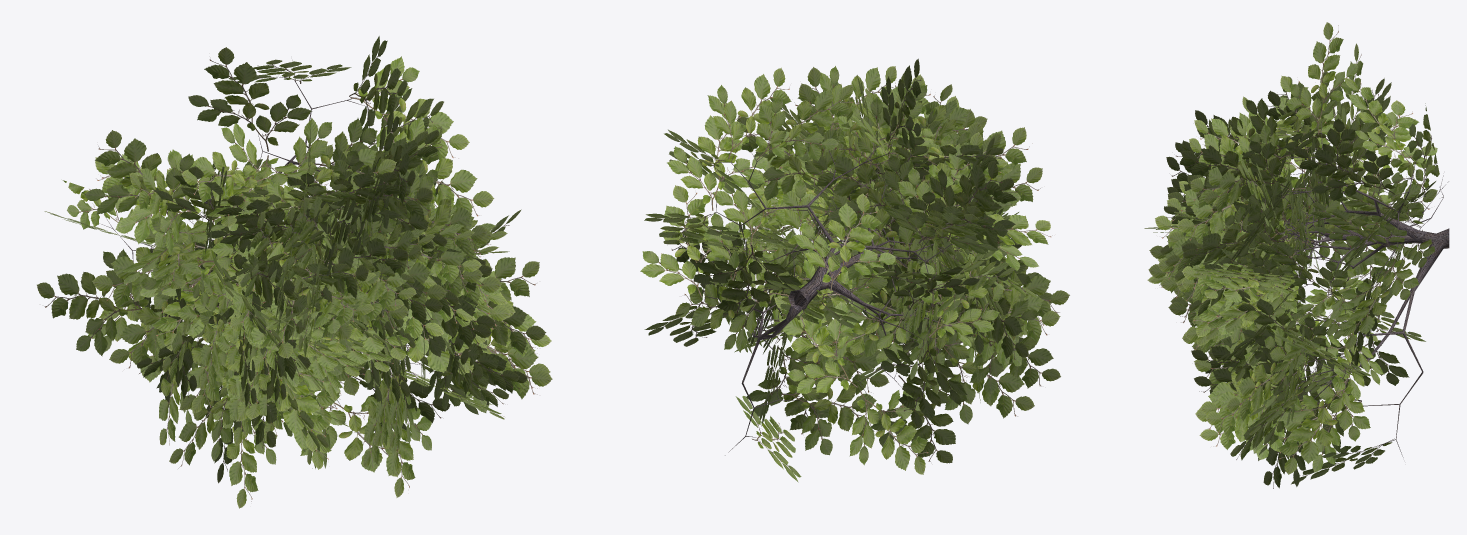
The model's file is Sandbox Shrub.dae.
The picture shows the model from 3 angles, left to right: view 1: azimuth 30°, elevation 25°; view 2: azimuth 150°, elevation 25°; view 3: azimuth 270°, elevation 25°; orthographic projection. The views are drawn at different scales.
Visible parts, largest first — view 1: group_1; view 2: group_1, group; view 3: group_1, group.
Boxes of the visible parts, <box> form: group_1: <box>37,36,552,508</box>; group_1: <box>640,58,1069,482</box>; group: <box>701,127,976,455</box>; group_1: <box>1144,22,1439,488</box>; group: <box>1265,121,1449,457</box>.
Bounding box in the file's own units: 3.66 × 3.77 × 2.51.
Materials: 2 (2 with a texture image).
